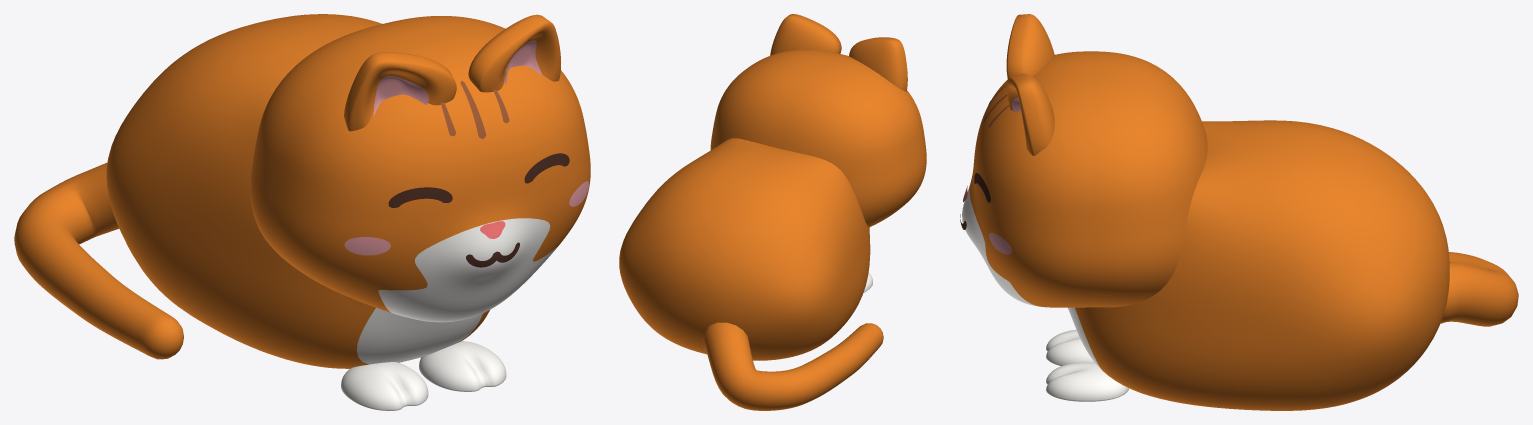
File: cat.glb
3 renders of one model, left to right at view 1: azimuth 30°, elevation 25°; view 2: azimuth 150°, elevation 25°; view 3: azimuth 270°, elevation 25°, orthographic. The views are drawn at different scales.
Visible parts, largest first — view 1: Head, Loaf, Tail, EarR, EarL, Face, PawR, PawL; view 2: Loaf, Head, Tail, EarL, EarR; view 3: Loaf, Head, Tail, EarL, PawL, EarR, PawR, Face.
Part boxes in pixels (x1,y1,x2,y2): Head: (250, 16, 590, 322); Loaf: (106, 14, 489, 368); Tail: (14, 162, 183, 359); EarR: (344, 52, 456, 131); EarL: (468, 14, 560, 92); Face: (344, 80, 588, 267); PawR: (341, 362, 428, 410); PawL: (419, 341, 506, 391); Loaf: (619, 138, 870, 360); Head: (710, 50, 926, 227); Tail: (703, 322, 883, 410); EarL: (770, 14, 841, 55); EarR: (849, 37, 907, 91); Loaf: (1068, 120, 1449, 410); Head: (962, 51, 1207, 307); Tail: (1440, 252, 1518, 326); EarL: (1006, 73, 1054, 155); PawL: (1046, 362, 1128, 401); EarR: (1006, 14, 1054, 78); PawR: (1046, 329, 1094, 366); Face: (960, 85, 1011, 254).
Size of the model in its own units: 0.4257 by 0.4214 by 0.6631.
